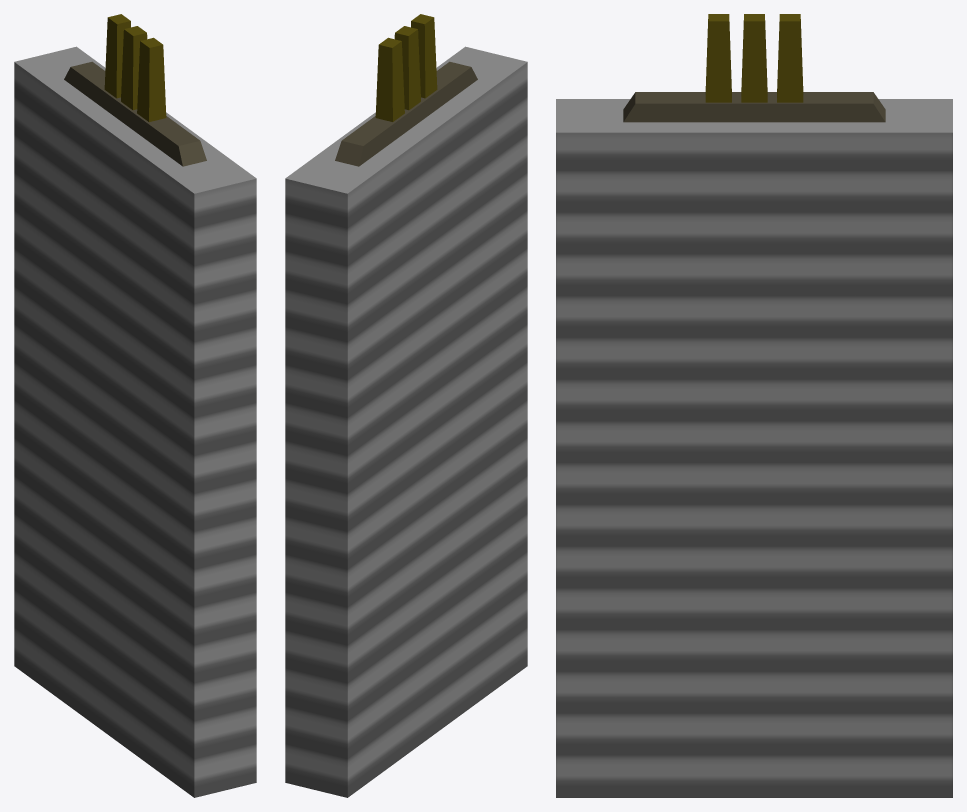
The model's file is SW_PROP_Elevator_Shaft_CounterWeight.fbx.
3 renders of one model, left to right at view 1: azimuth 30°, elevation 25°; view 2: azimuth 150°, elevation 25°; view 3: azimuth 270°, elevation 25°, orthographic. The views are drawn at different scales.
Visible parts, largest first — view 1: SW_PROP_Elevator_Shaft_CounterWeight; view 2: SW_PROP_Elevator_Shaft_CounterWeight; view 3: SW_PROP_Elevator_Shaft_CounterWeight.
Boxes of the visible parts, x1,y1,x2,y2 form: SW_PROP_Elevator_Shaft_CounterWeight: (14,14,256,797); SW_PROP_Elevator_Shaft_CounterWeight: (285,14,527,797); SW_PROP_Elevator_Shaft_CounterWeight: (556,14,952,797).
Size of the model in its own units: 20 by 212 by 100.
